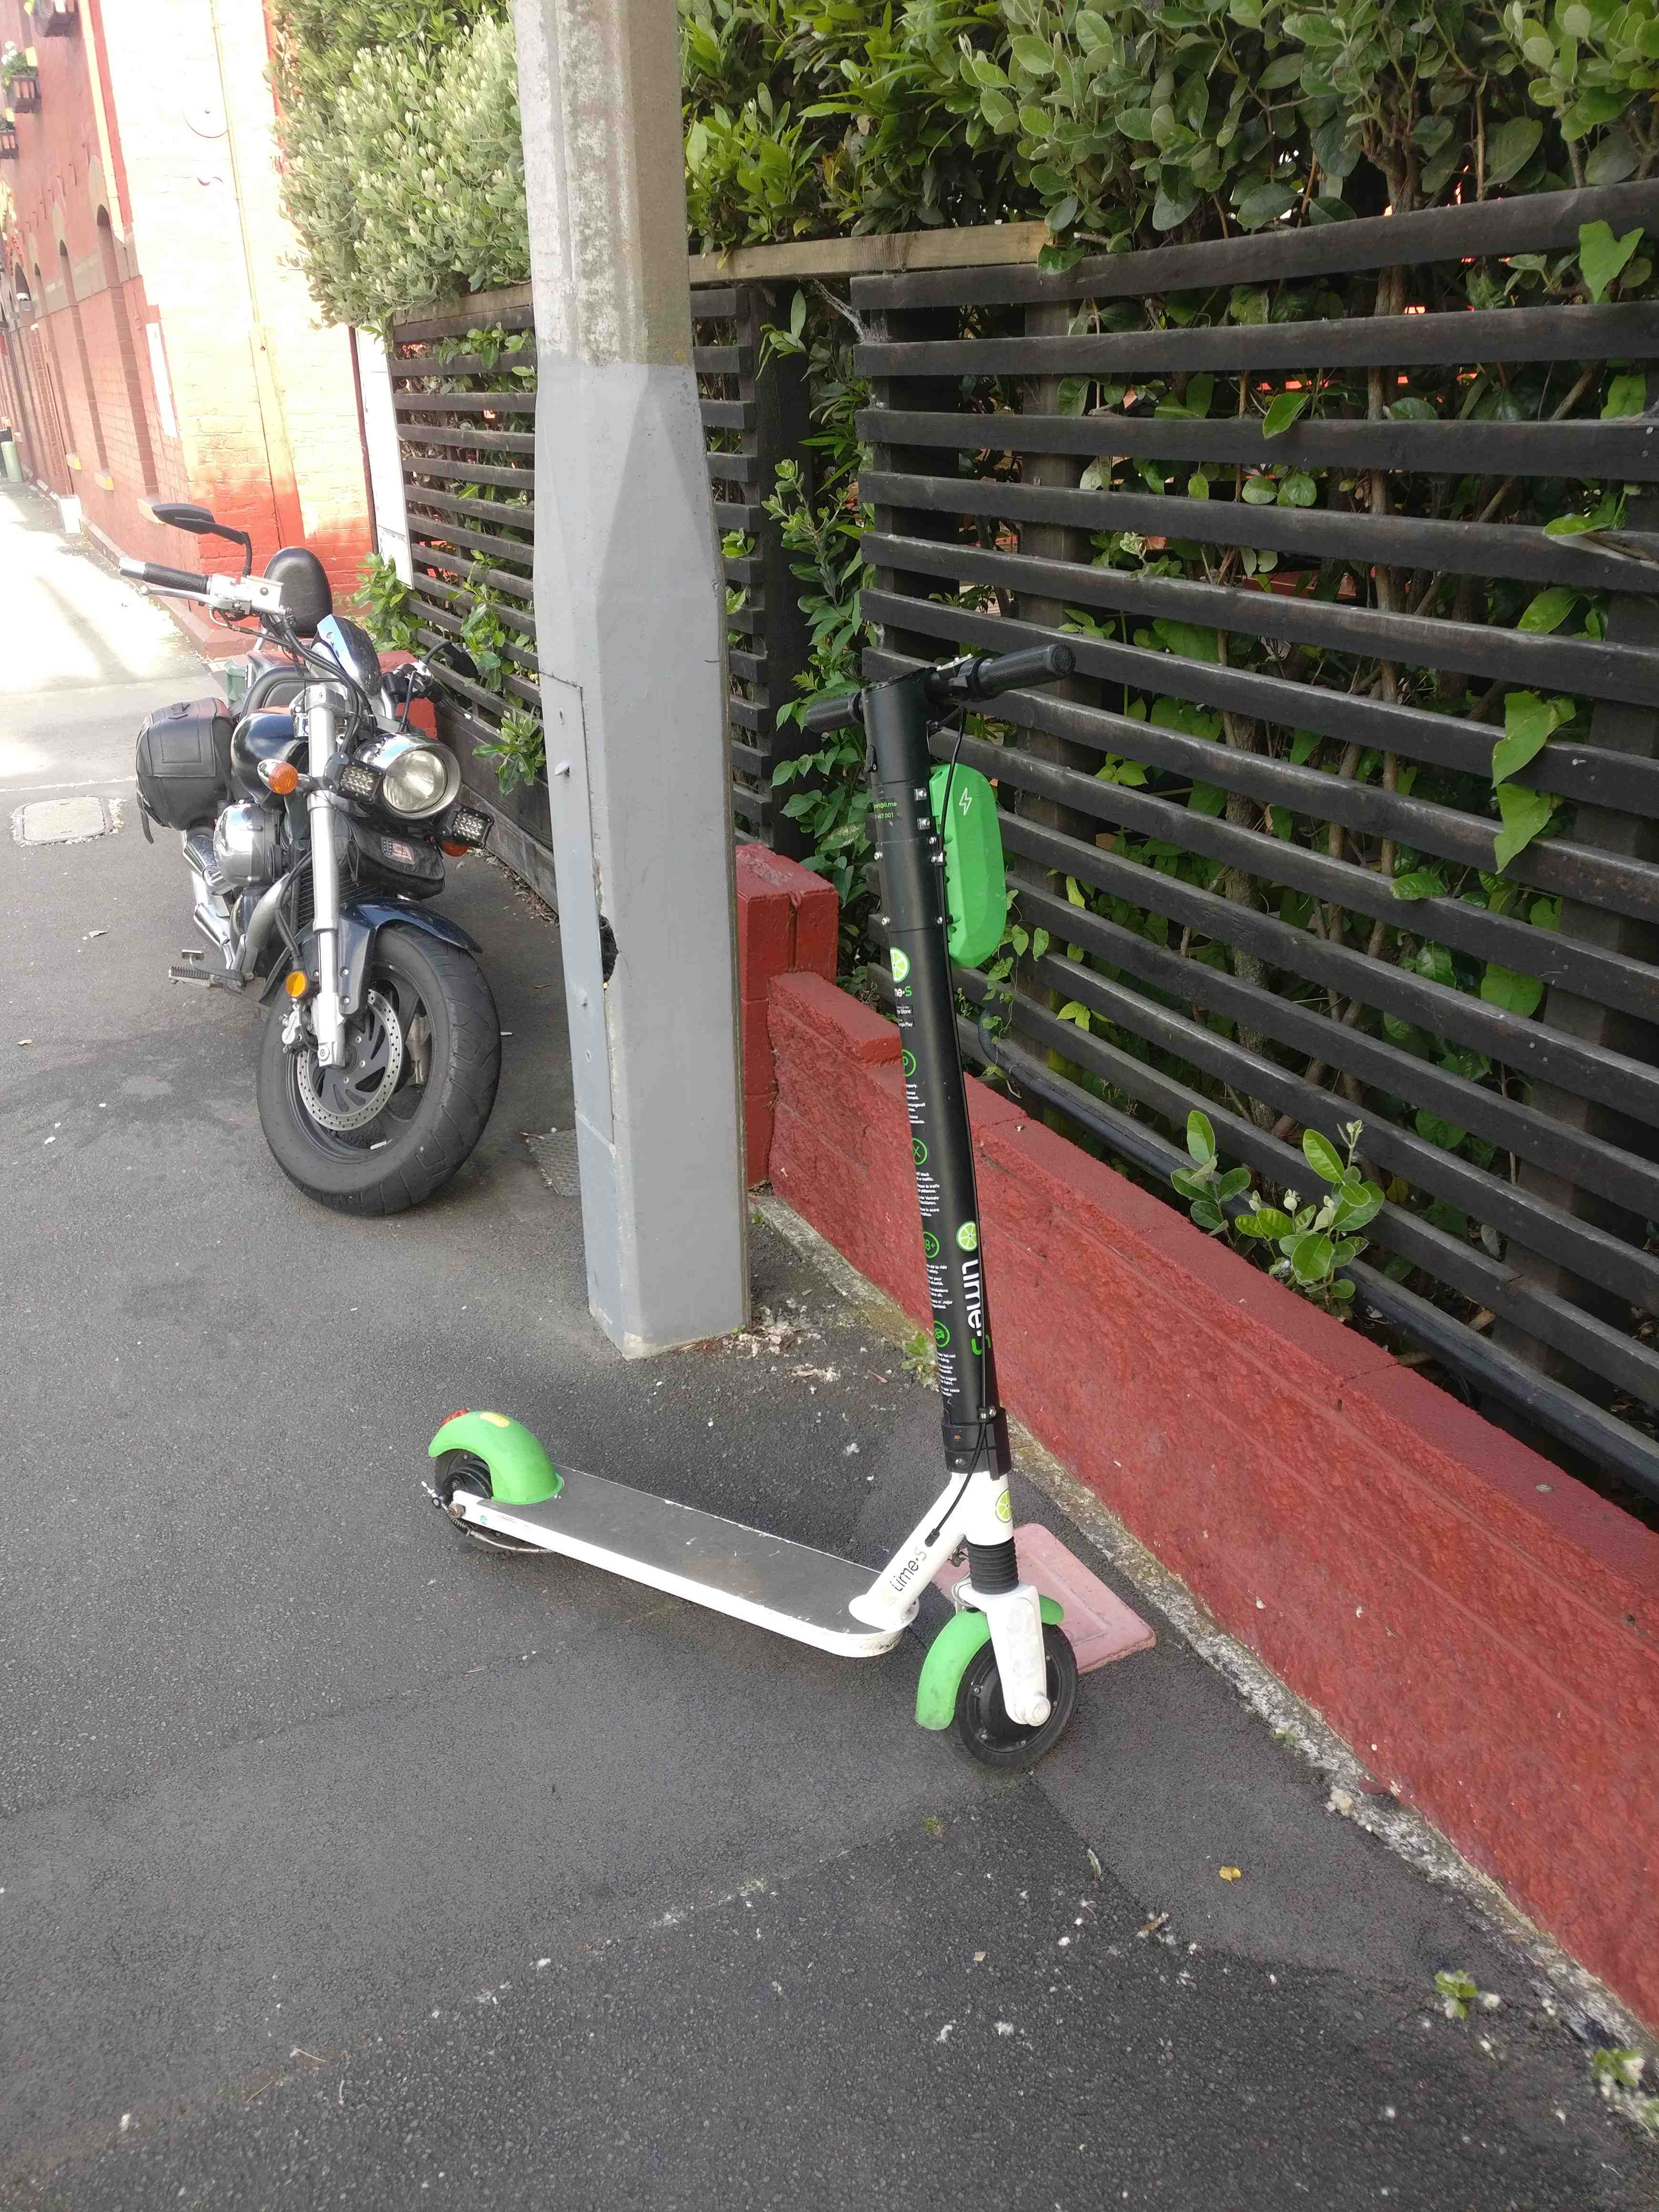scooter: (383, 597, 1108, 1777)
